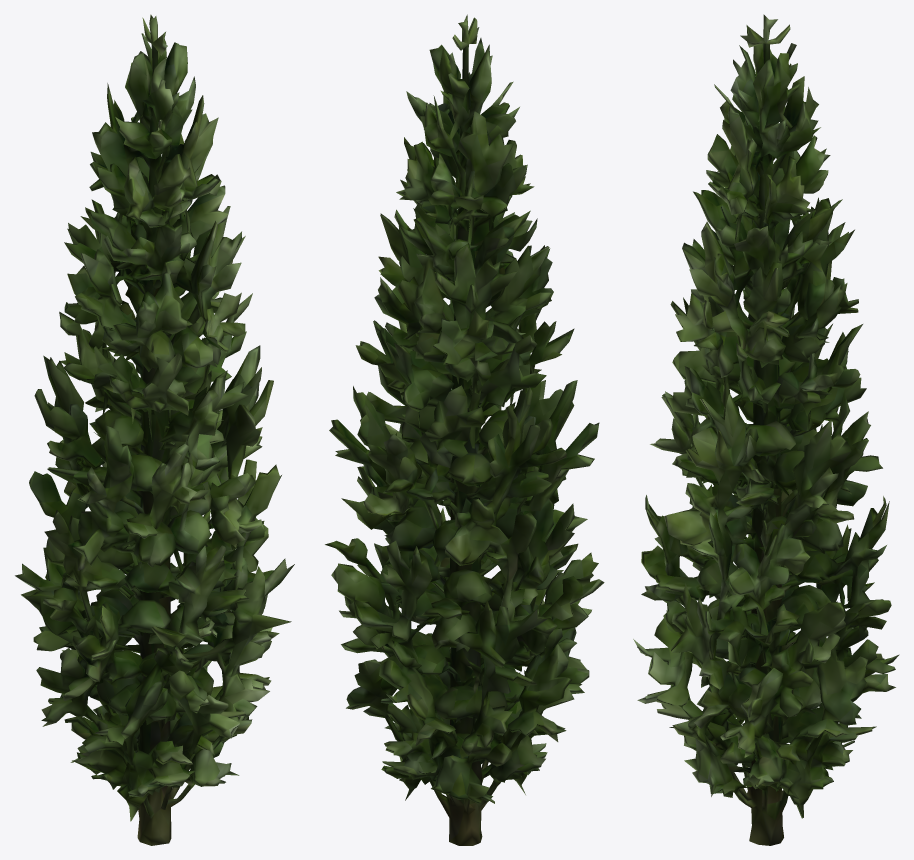
Rendered from tree_cypress.glb.
3 views of the same model, side by side, from view 1: azimuth 30°, elevation 25°; view 2: azimuth 150°, elevation 25°; view 3: azimuth 270°, elevation 25° (orthographic).
Parts seen in each view (by area): view 1: tripo_node_600677be-178a-4e34-bc68-b803c0ac83f8; view 2: tripo_node_600677be-178a-4e34-bc68-b803c0ac83f8; view 3: tripo_node_600677be-178a-4e34-bc68-b803c0ac83f8.
Boxes of the visible parts, <box> form: tripo_node_600677be-178a-4e34-bc68-b803c0ac83f8: <box>15,14,294,845</box>; tripo_node_600677be-178a-4e34-bc68-b803c0ac83f8: <box>325,14,604,845</box>; tripo_node_600677be-178a-4e34-bc68-b803c0ac83f8: <box>633,14,899,845</box>.
Size of the model in its own units: 0.3149 by 1 by 0.2934.
1 material, 1 textured.
